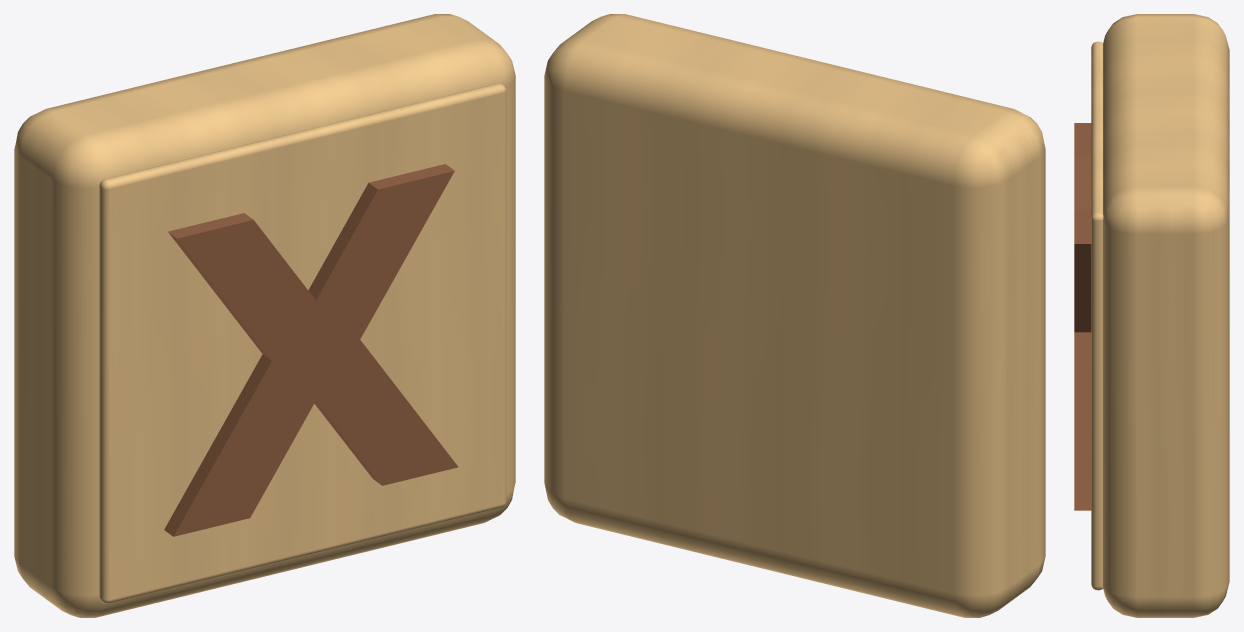
3 renders of one model, left to right at view 1: azimuth 30°, elevation 25°; view 2: azimuth 150°, elevation 25°; view 3: azimuth 270°, elevation 25°, orthographic. The views are drawn at different scales.
Parts seen in each view (by area): view 1: Tile_X; view 2: Tile_X; view 3: Tile_X.
Boxes of the visible parts, x1,y1,x2,y2 form: Tile_X: [14, 14, 515, 617]; Tile_X: [544, 14, 1045, 617]; Tile_X: [1074, 14, 1229, 617].
Bounding box in the file's own units: 0.21 × 0.21 × 0.069.
Materials: 2 (1 with a texture image).
